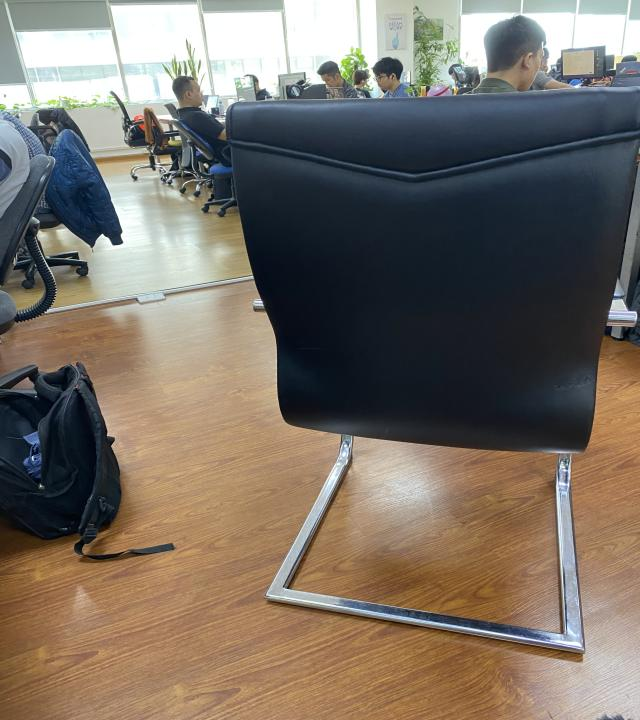SS_03: (223, 84, 639, 658)
